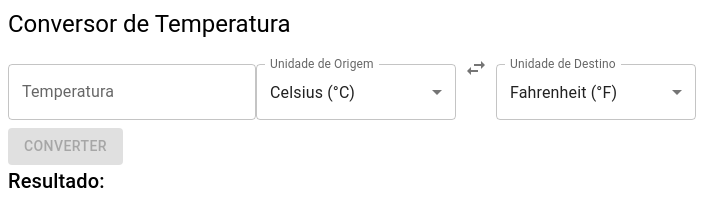
ConversorTemperatura › desabilita o botao enquanto o formulario estiver invalido
The image size is (713, 205).
Expected: the button "Converter" is disabled, [8,128,123,165]
Step 1. Type "100" into the number field labelled "Temperatura" → x=132, y=92, box [8,64,256,120]
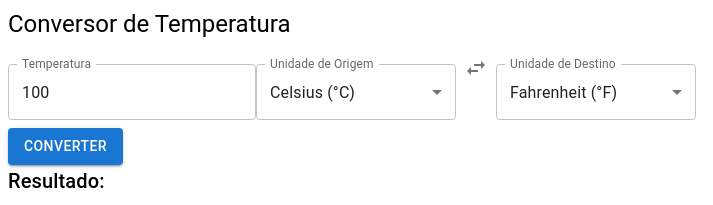
Expected: the button "Converter" is enabled, [8,128,123,165]
